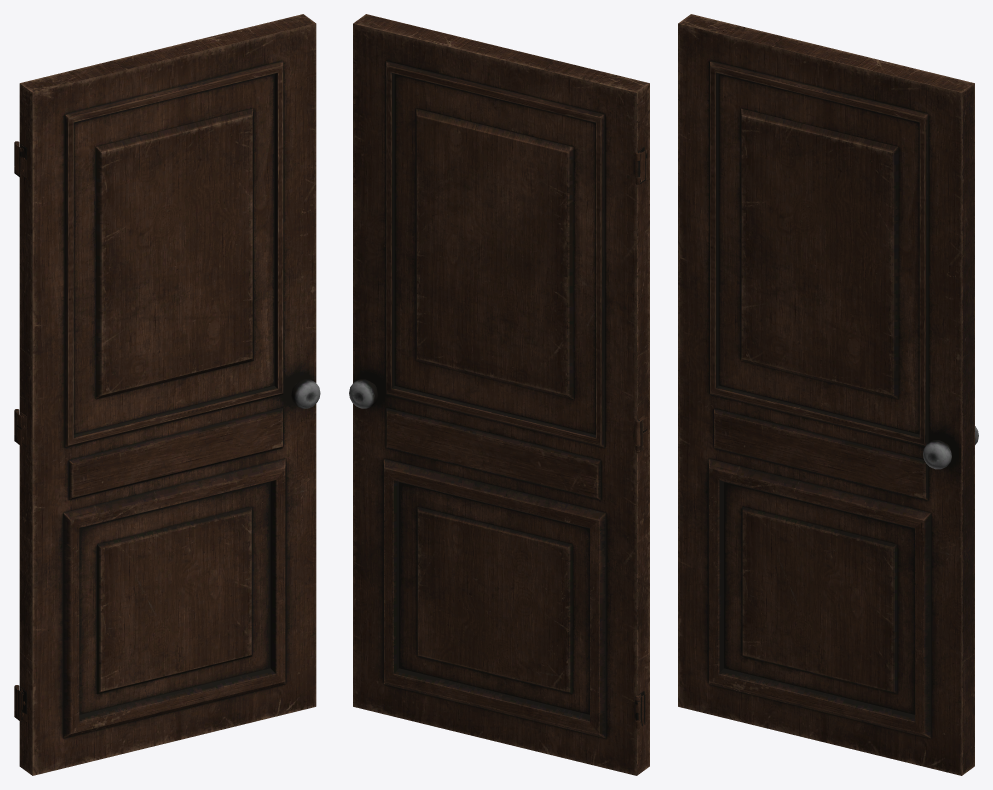
The model's file is Room_Door.fbx.
3 renders of one model, left to right at view 1: azimuth 30°, elevation 25°; view 2: azimuth 150°, elevation 25°; view 3: azimuth 330°, elevation 25°, orthographic.
Parts seen in each view (by area): view 1: SM_WoodenDoorNewFrame_LOD0; view 2: SM_WoodenDoorNewFrame_LOD0; view 3: SM_WoodenDoorNewFrame_LOD0.
Part boxes in pixels (x1,y1,x2,y2): SM_WoodenDoorNewFrame_LOD0: (14,14,320,775); SM_WoodenDoorNewFrame_LOD0: (349,14,649,775); SM_WoodenDoorNewFrame_LOD0: (678,14,978,775).
Size of the model in its own units: 102 by 230 by 22.54.
